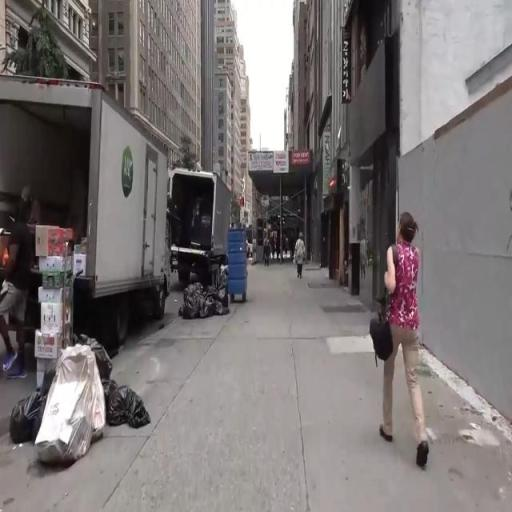person: (371, 215, 444, 485), (1, 191, 31, 386), (295, 236, 308, 286), (265, 237, 273, 267), (277, 233, 282, 261)
